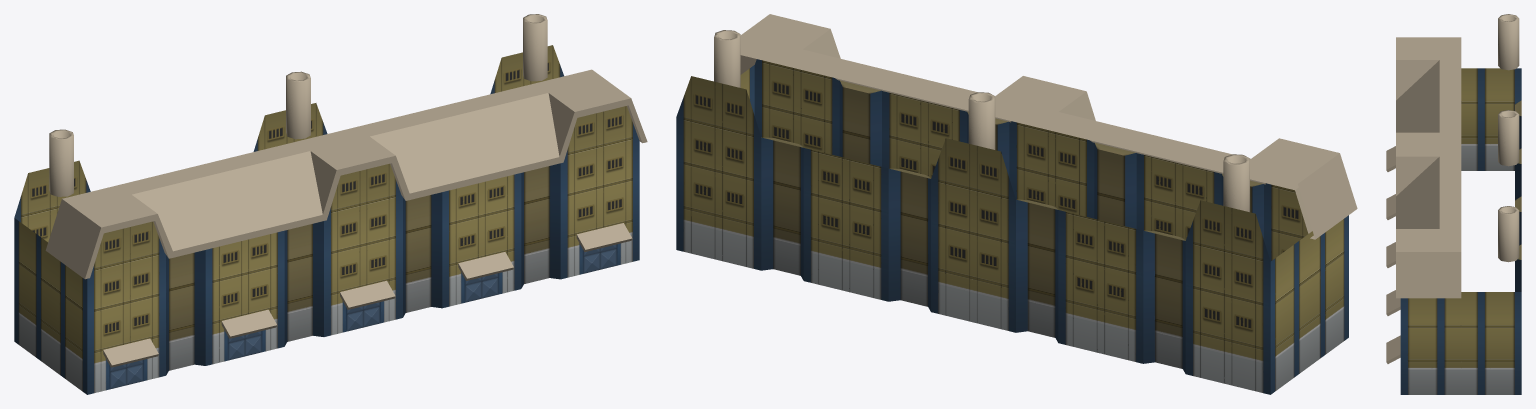
File: harbour.glb
3 views of the same model, side by side, from view 1: azimuth 30°, elevation 25°; view 2: azimuth 150°, elevation 25°; view 3: azimuth 270°, elevation 25° (orthographic). The views are drawn at different scales.
Parts seen in each view (by area): view 1: Cube; view 2: Cube; view 3: Cube.
Part boxes in pixels (x1,y1,x2,y2): Cube: (14, 14, 647, 394); Cube: (676, 14, 1357, 394); Cube: (1386, 14, 1521, 394).
Size of the model in its own units: 14.26 by 4.92 by 3.58.
Materials: 4 (2 with a texture image).
